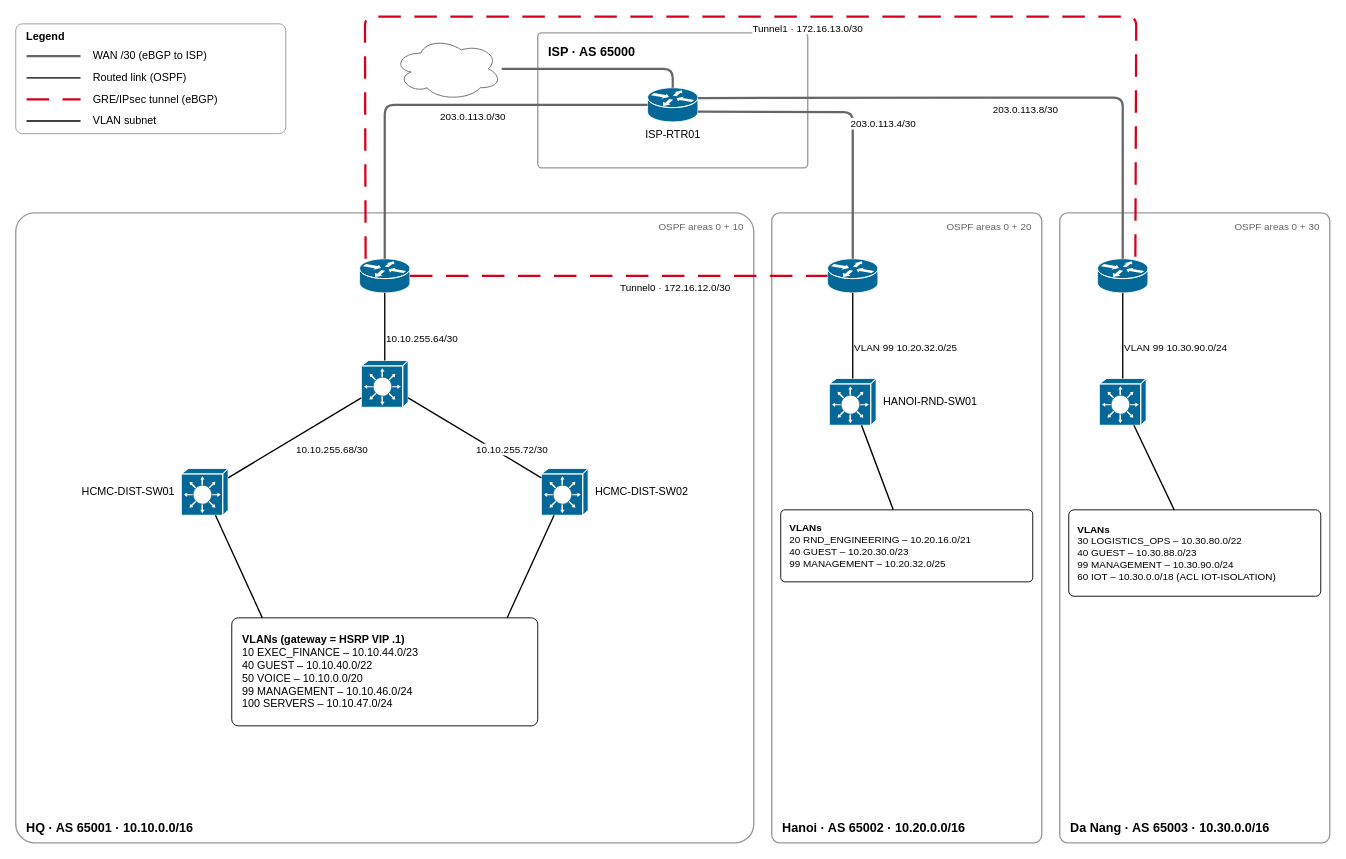
The diagram is 1346 pixels wide and 859 high, and some of its shapes have lost their labels. Here are the shapes that lost their labels. From the top down, the centre of each, then its label:
At [447,68]: "Internet 8.8.8.0/24".
At [384,275]: "HCMC-EDGE-RTR01".
At [852,275]: "HANOI-RND-RTR01".
At [1122,275]: "DANANG-LOG-RTR01".
At [384,383]: "HCMC-CORE-SW01".
At [1122,401]: "DANANG-LOG-SW01".
